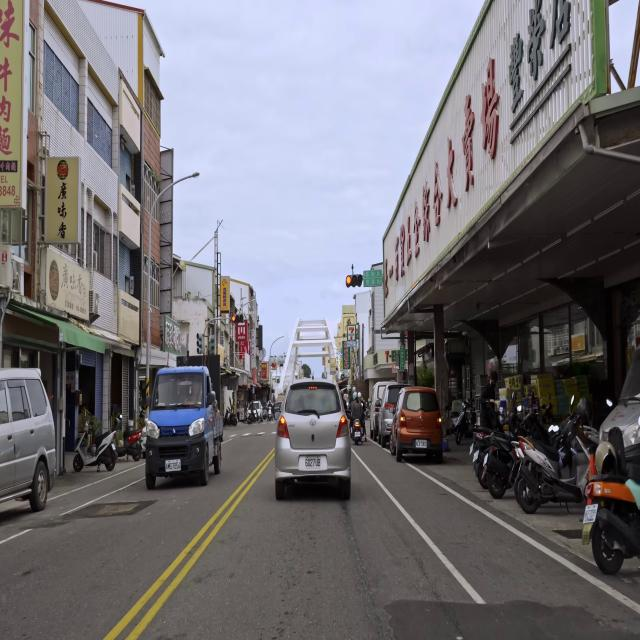red light: (345, 275, 363, 286), (232, 314, 244, 323)
